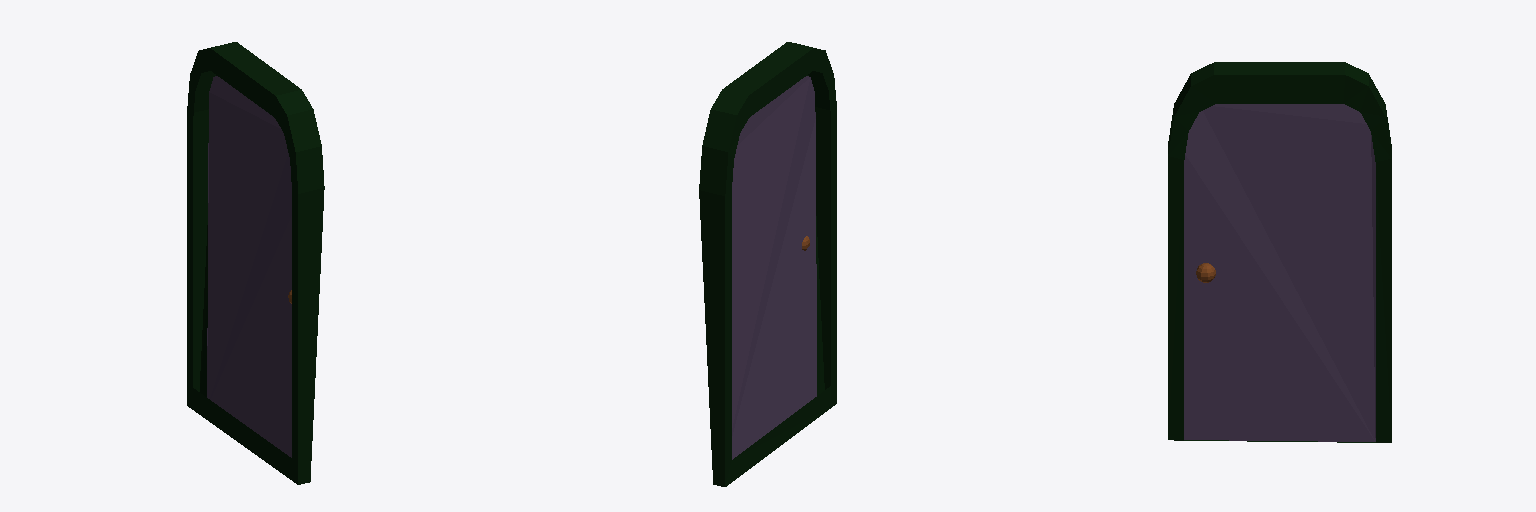
File: door4.obj
3 renders of one model, left to right at view 1: azimuth 30°, elevation 25°; view 2: azimuth 150°, elevation 25°; view 3: azimuth 270°, elevation 25°, orthographic.
Visible parts, largest first — view 1: door, doorframe; view 2: door, doorframe; view 3: door, doorframe.
Boxes of the visible parts, <box> form: door: <box>207,76,291,457</box>; doorframe: <box>187,42,324,484</box>; door: <box>732,76,816,459</box>; doorframe: <box>699,42,836,486</box>; door: <box>1184,104,1375,441</box>; doorframe: <box>1168,62,1391,442</box>.
Bounding box in the file's own units: 0.0594 × 0.7837 × 0.4239.